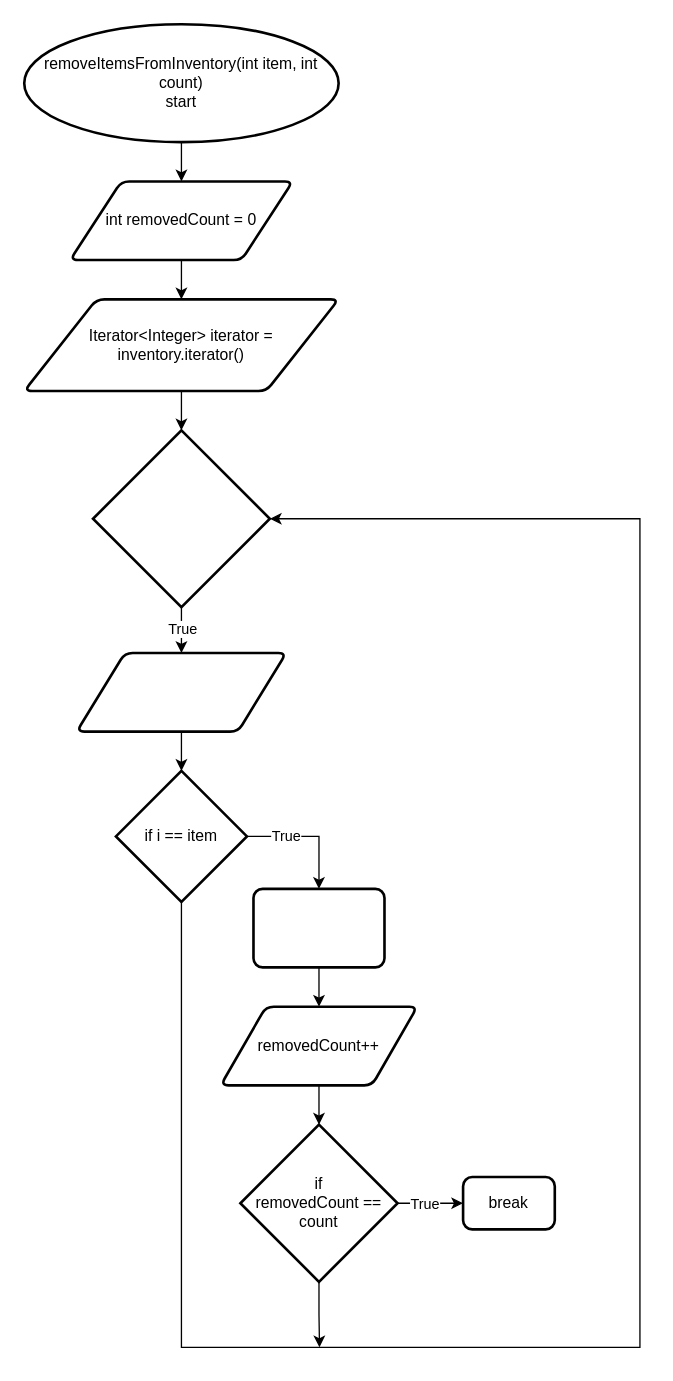
This 673x1381 diagram has some shape labels left out. Each missing label, with the centre of its shape:
"int i = iterator.next()" belongs at (x=181, y=691).
"iterator.remove()" belongs at (x=318, y=927).
"while iterator.hasNext()" belongs at (x=181, y=518).
